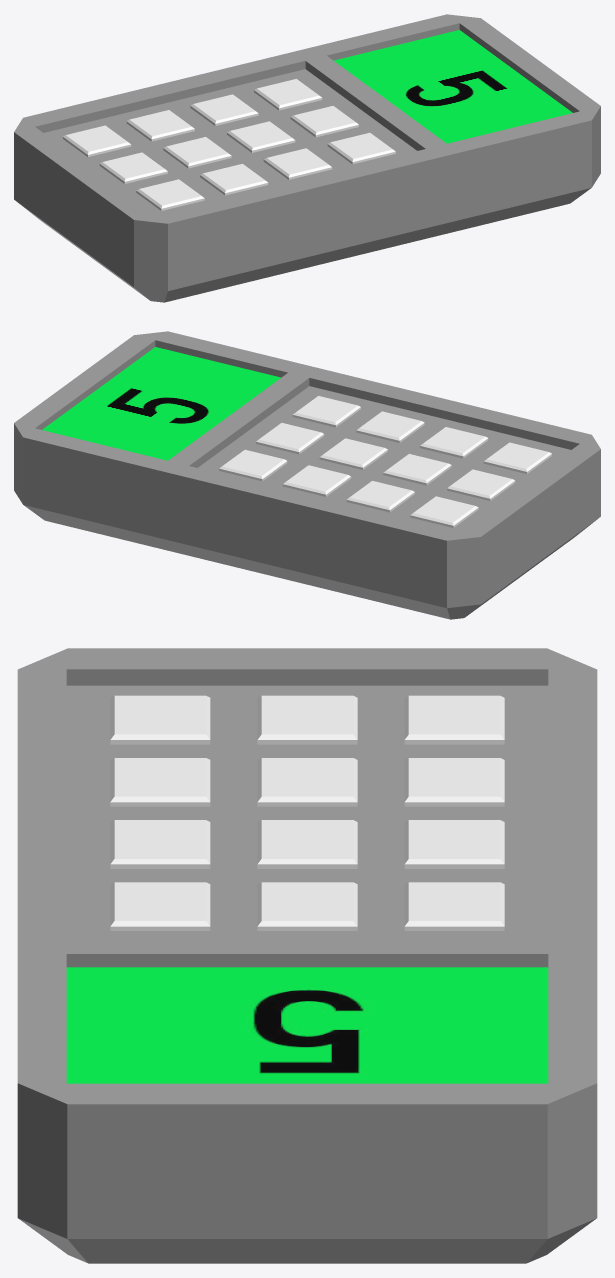
File: phone_2_solved.glb
3 views of the same model, one above another, from view 1: azimuth 30°, elevation 25°; view 2: azimuth 150°, elevation 25°; view 3: azimuth 270°, elevation 25° (orthographic). The views are drawn at different scales.
Visible parts, largest first — view 1: phone_2_solved; view 2: phone_2_solved; view 3: phone_2_solved.
Part boxes in pixels (x1=…): phone_2_solved: x1=14, y1=14, x2=600, y2=302; phone_2_solved: x1=14, y1=331, x2=600, y2=619; phone_2_solved: x1=17, y1=648, x2=597, y2=1263.
Size of the model in its own units: 0.3353 by 0.0622 by 0.1801.
4 materials, 2 textured.
